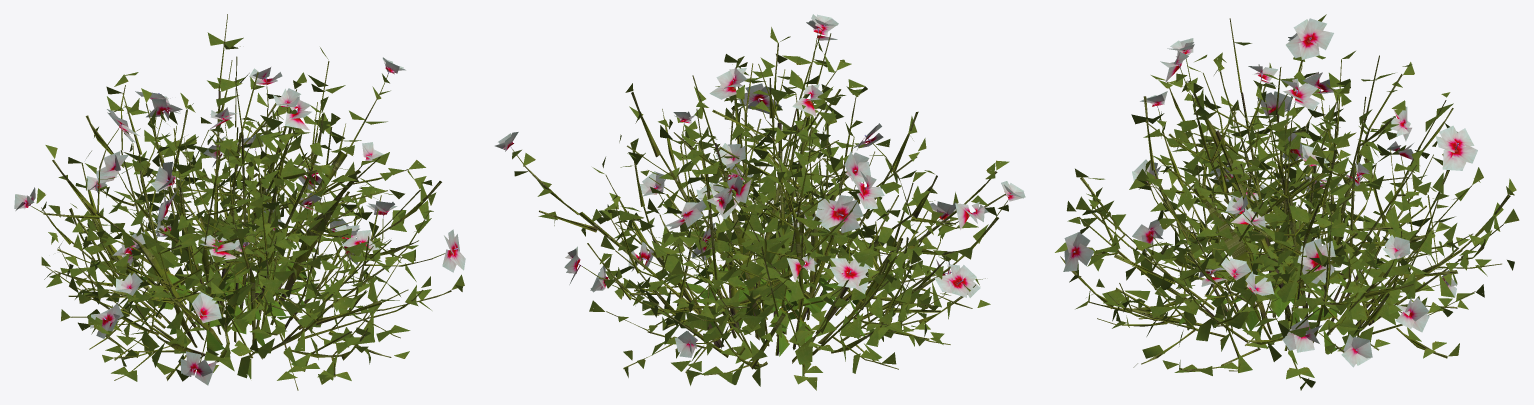
Rendered from cargo_shrub_f.glb.
3 renders of one model, left to right at view 1: azimuth 30°, elevation 25°; view 2: azimuth 150°, elevation 25°; view 3: azimuth 270°, elevation 25°, orthographic. The views are drawn at different scales.
Parts seen in each view (by area): view 1: KB3D_ENC_PropFlowers_C; view 2: KB3D_ENC_PropFlowers_C; view 3: KB3D_ENC_PropFlowers_C.
Part boxes in pixels (x1,y1,x2,y2): KB3D_ENC_PropFlowers_C: [14, 14, 465, 390]; KB3D_ENC_PropFlowers_C: [495, 14, 1025, 390]; KB3D_ENC_PropFlowers_C: [1055, 14, 1519, 390].
Size of the model in its own units: 1.6 by 0.9901 by 1.43.
3 materials, 3 textured.
